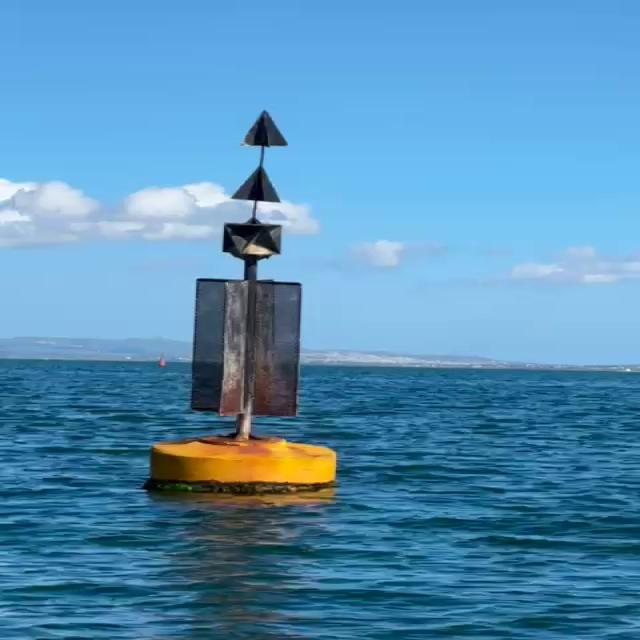marque: (150, 105, 343, 495)
